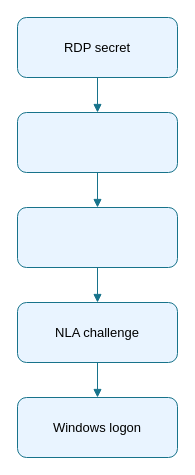
The diagram is 195 pixels wide and 475 high, and some of its shapes have lost their labels. The centre of each missing label's shape, as x and y in pixels:
"TCP reachability" goes at pixel 97 142.
"TLS security mode" goes at pixel 97 237.
